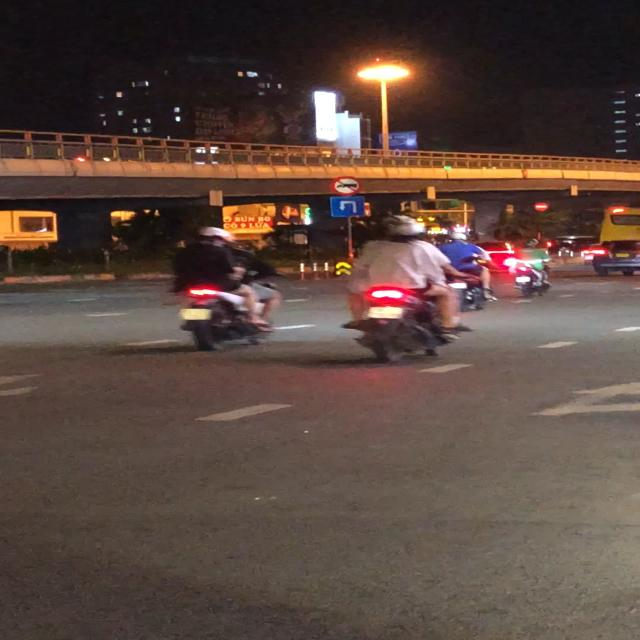Bien bao cam xe so-mi ro-mooc: (329, 176, 363, 197)
